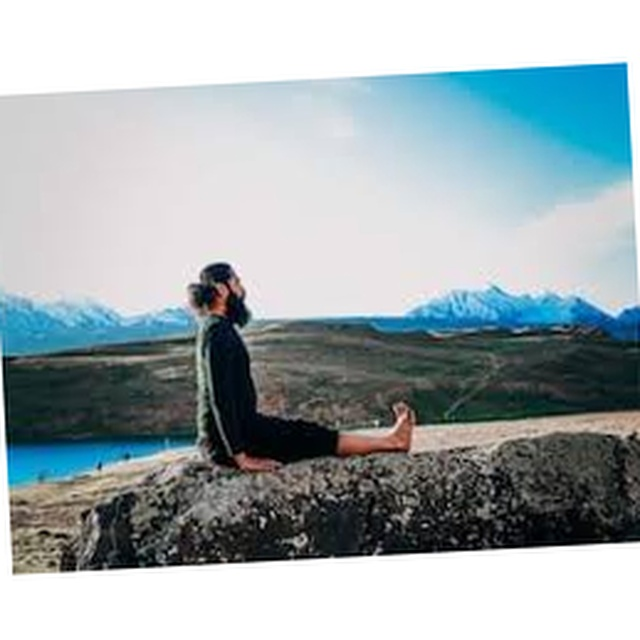Staff_Pose: (184, 264, 415, 472)
